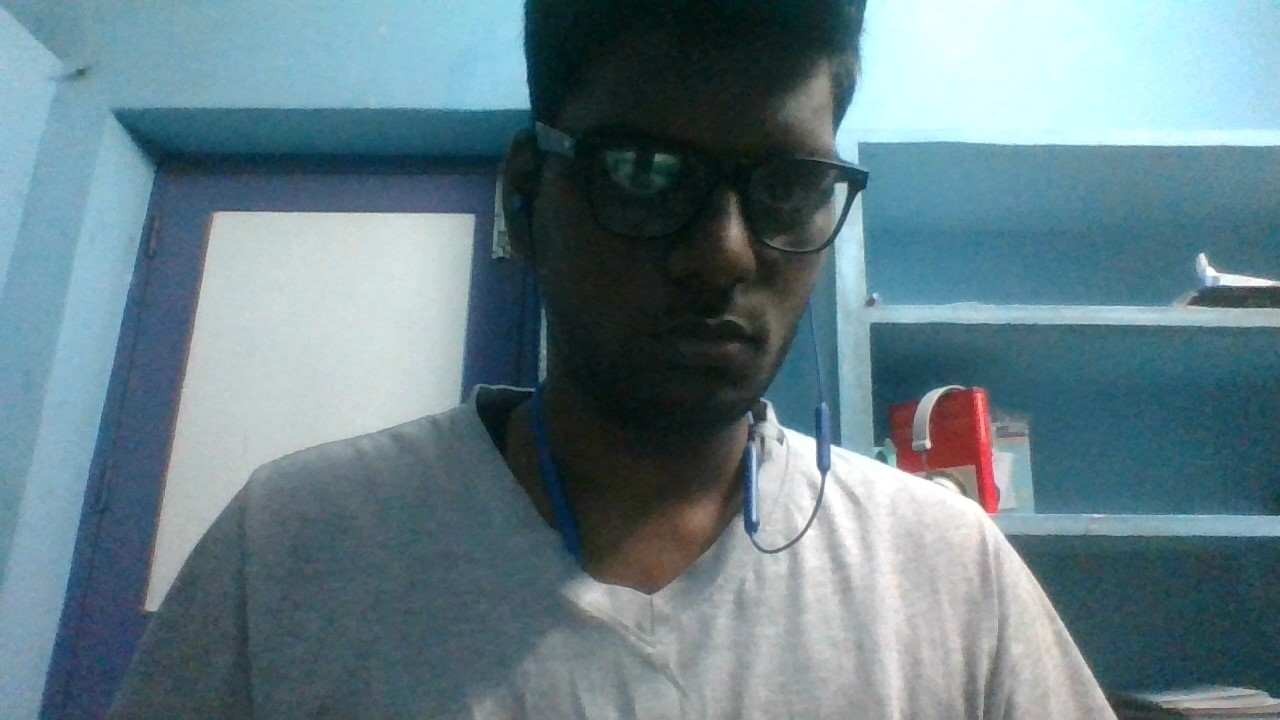person: (173, 1, 1082, 720)
